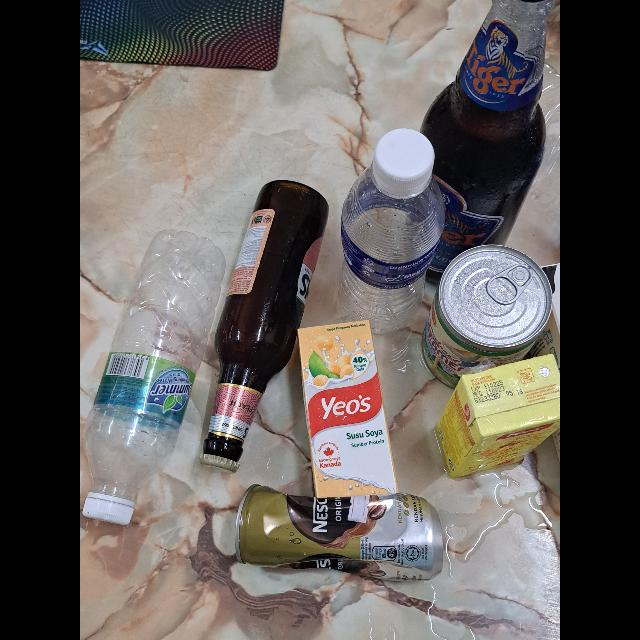aba de lata: (487, 264, 533, 304)
caixinha: (297, 320, 397, 498), (432, 354, 560, 481)
garrafa de vidro: (422, 0, 560, 286), (201, 178, 329, 474)
garrafa plástica: (80, 228, 226, 502), (340, 165, 444, 332)
lata: (235, 482, 445, 580), (421, 244, 553, 390)
tampa plástica: (372, 127, 436, 191), (80, 496, 136, 524)
